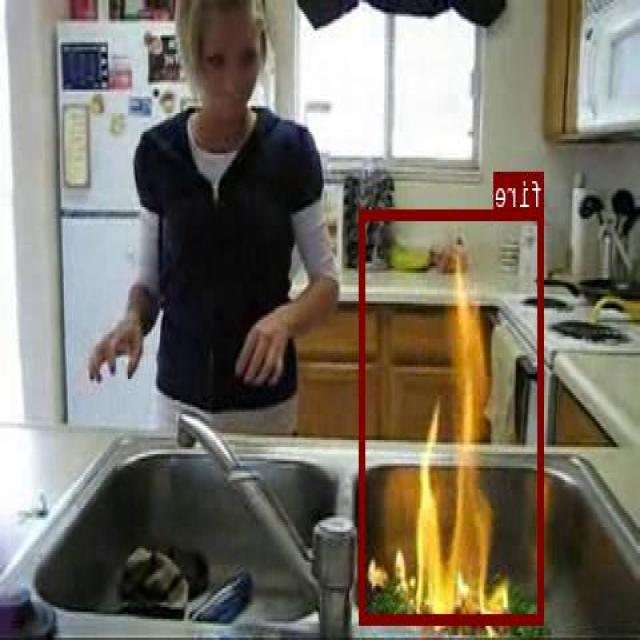fire: (360, 207, 544, 623)
